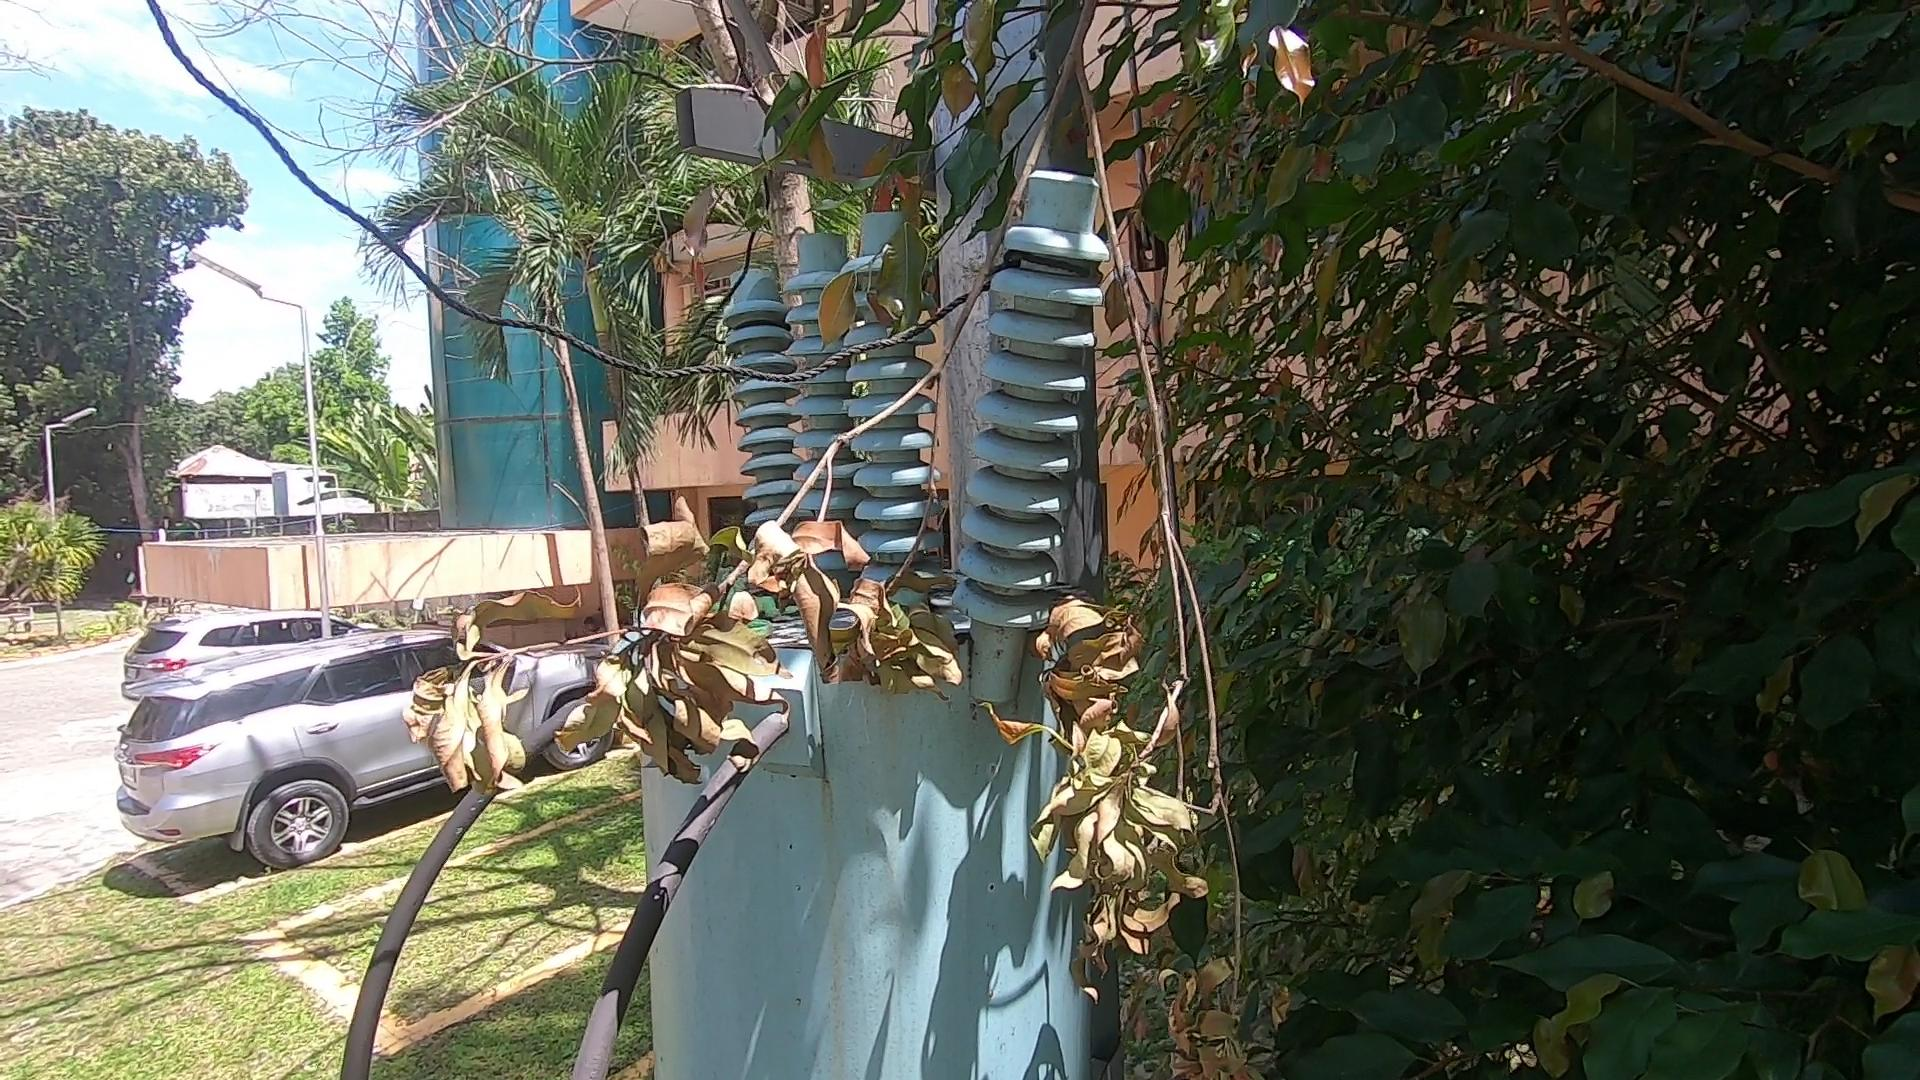branch with leaves: (397, 17, 1338, 1065)
